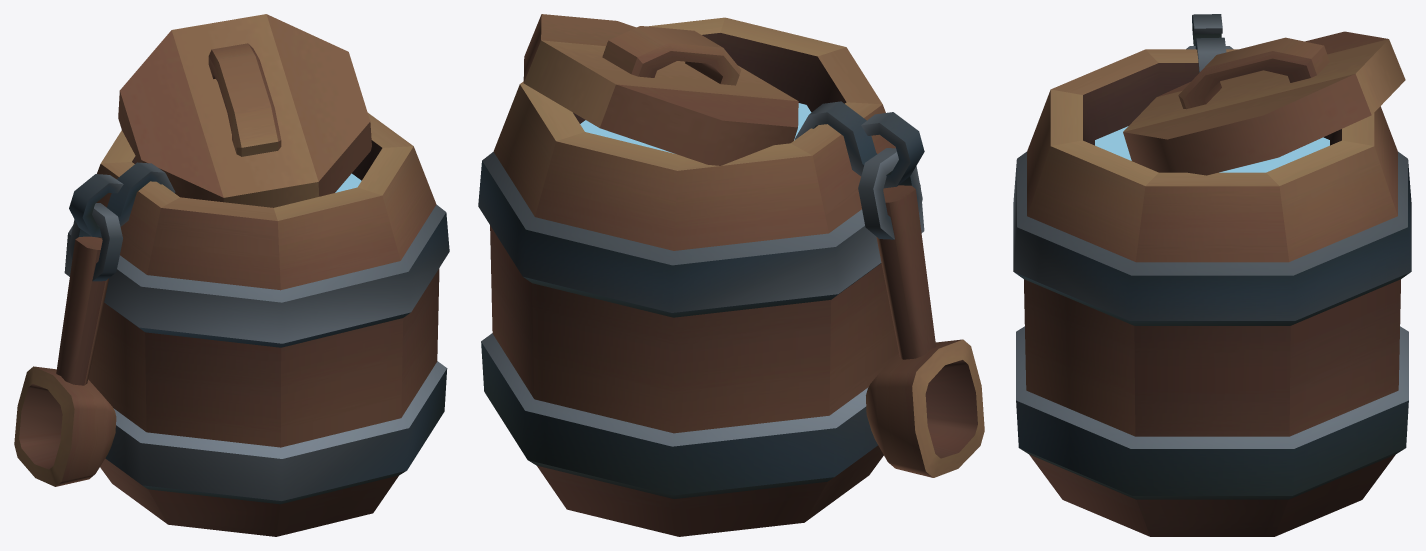
Rendered from barrel_water_open_slightly.fbx.
3 renders of one model, left to right at view 1: azimuth 30°, elevation 25°; view 2: azimuth 150°, elevation 25°; view 3: azimuth 270°, elevation 25°, orthographic. The views are drawn at different scales.
Parts seen in each view (by area): view 1: barrel_water_open_slightly; view 2: barrel_water_open_slightly; view 3: barrel_water_open_slightly.
Part boxes in pixels (left/top/right/bottom): barrel_water_open_slightly: left=14, top=14, right=449, bottom=536; barrel_water_open_slightly: left=478, top=14, right=984, bottom=536; barrel_water_open_slightly: left=1013, top=14, right=1411, bottom=536.
Bounding box in the file's own units: 113 × 114 × 93.15.
